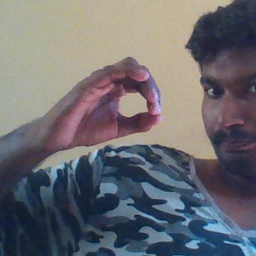O: (53, 54, 165, 148)
